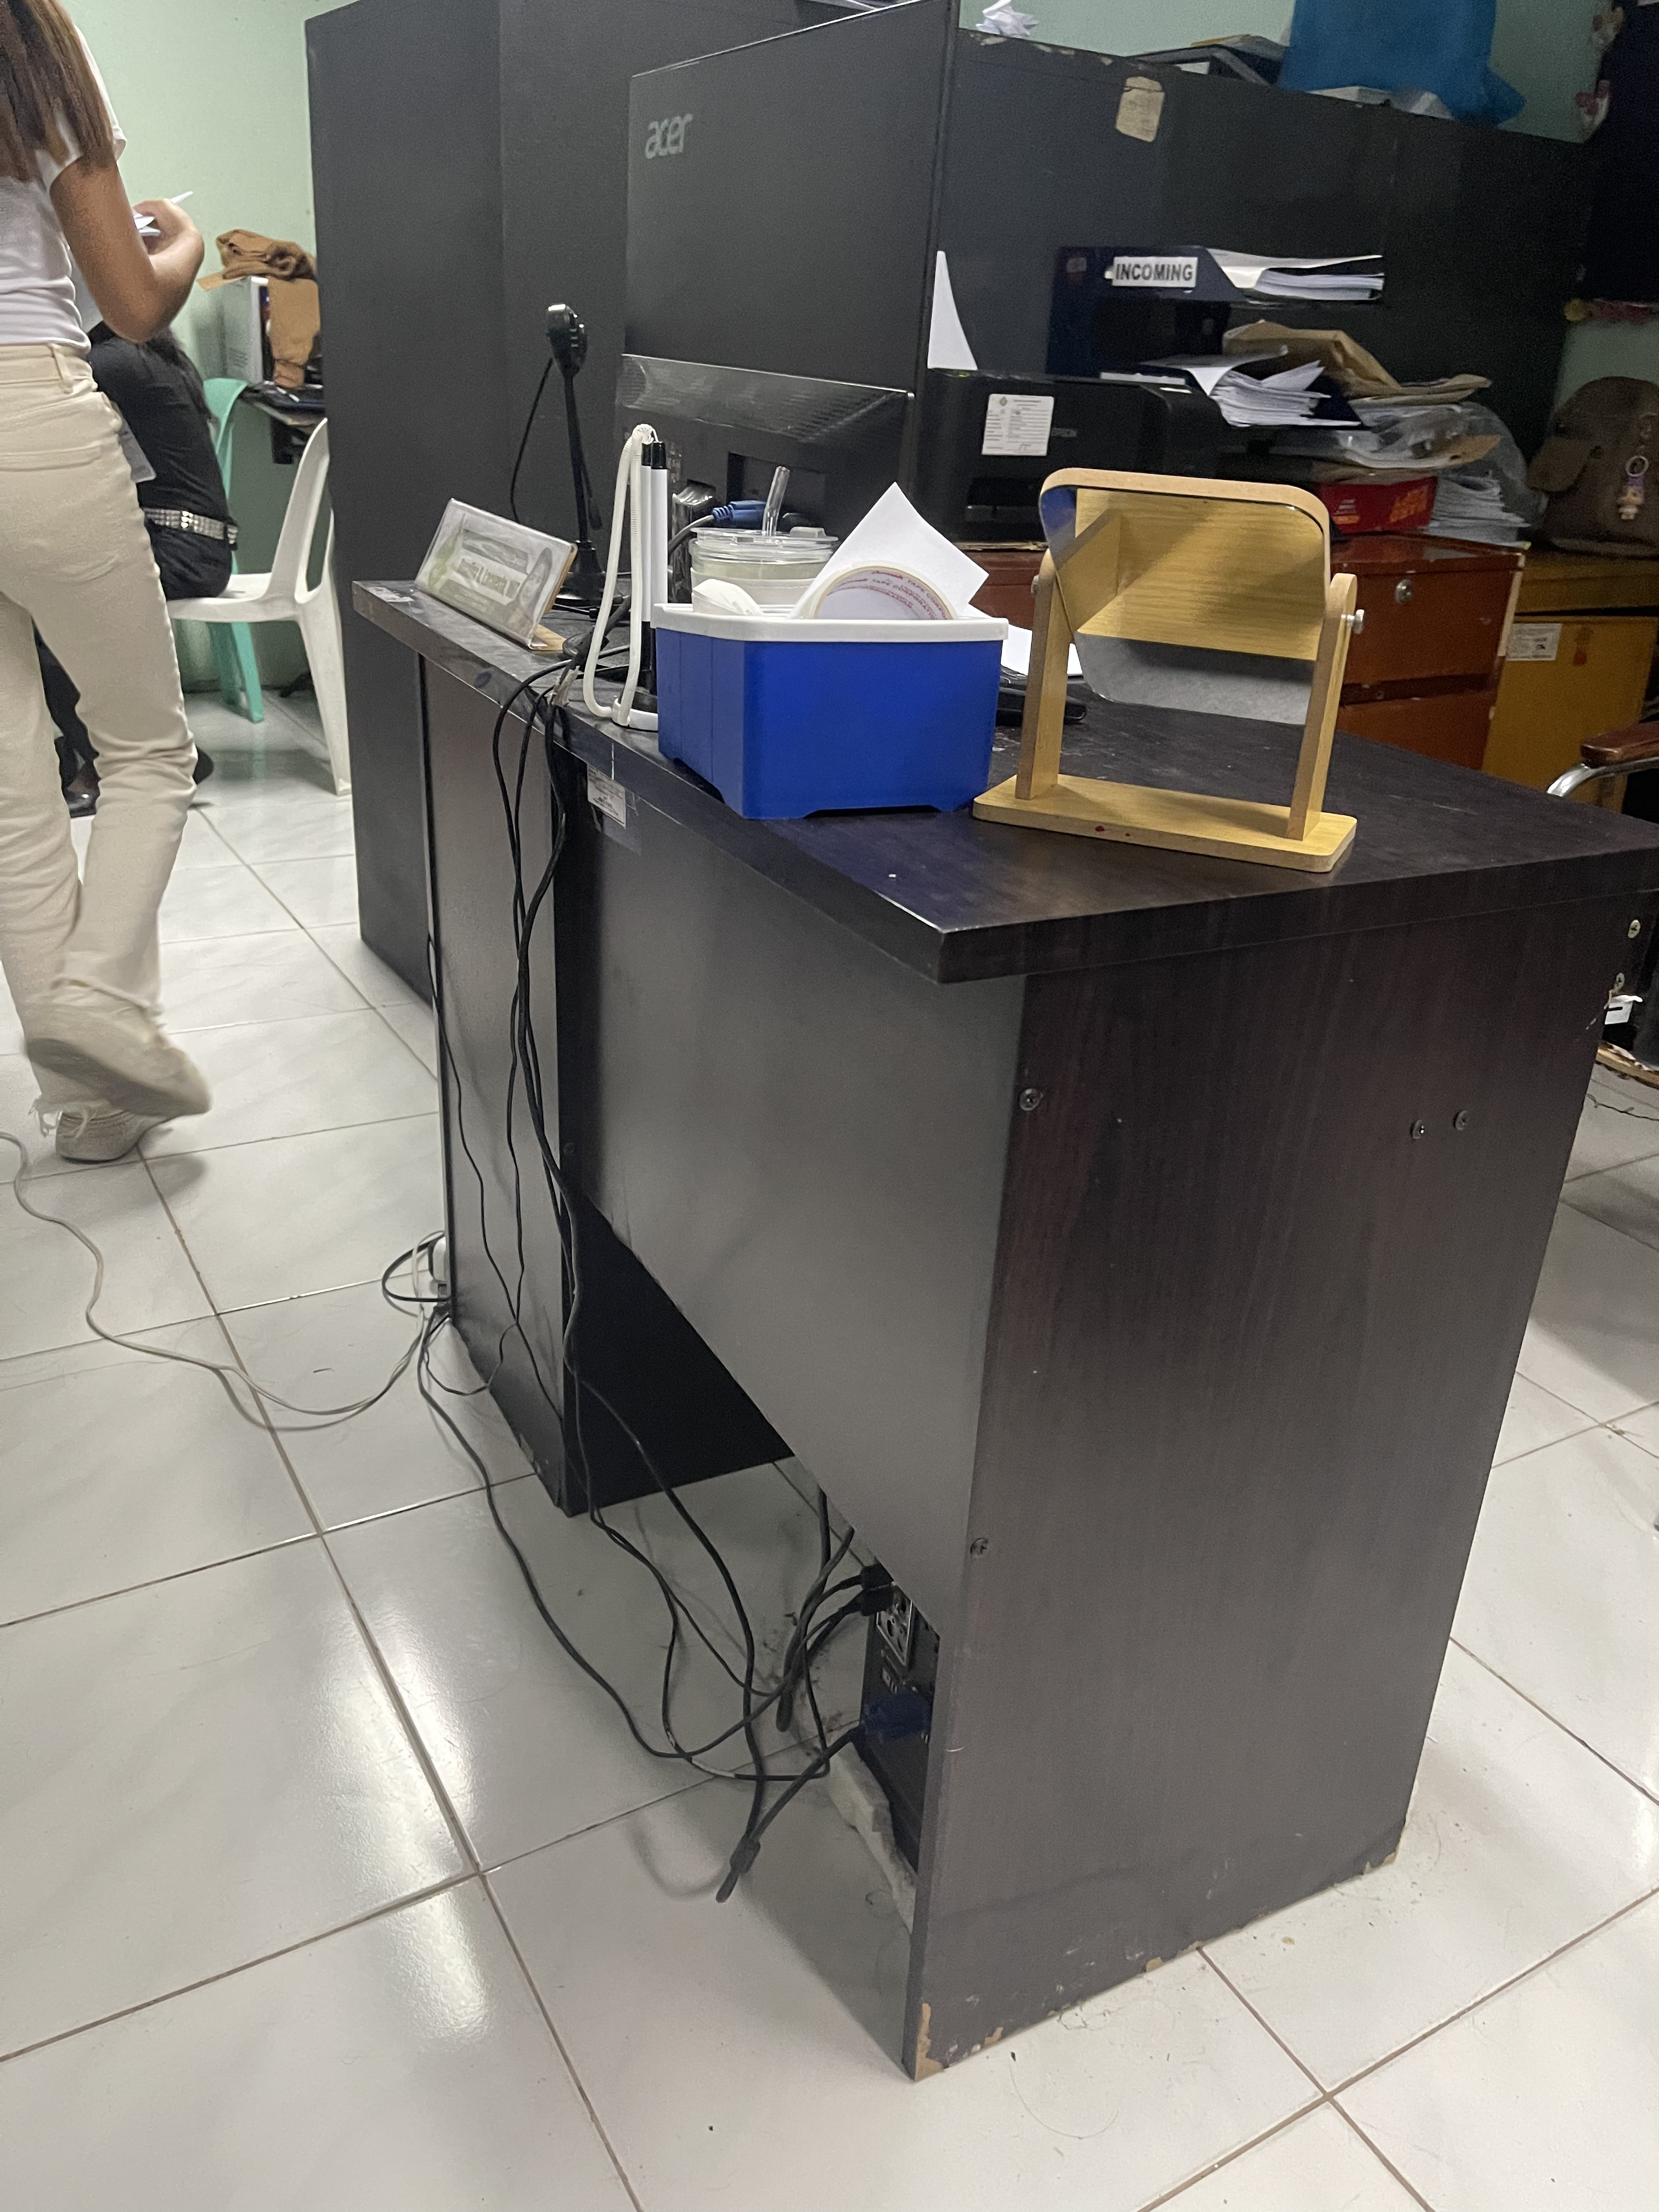table1: (350, 531, 1659, 2095)
